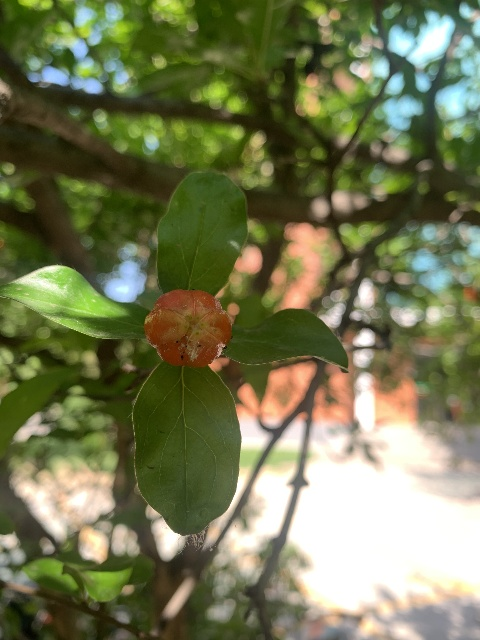bud: (144, 288, 230, 368)
